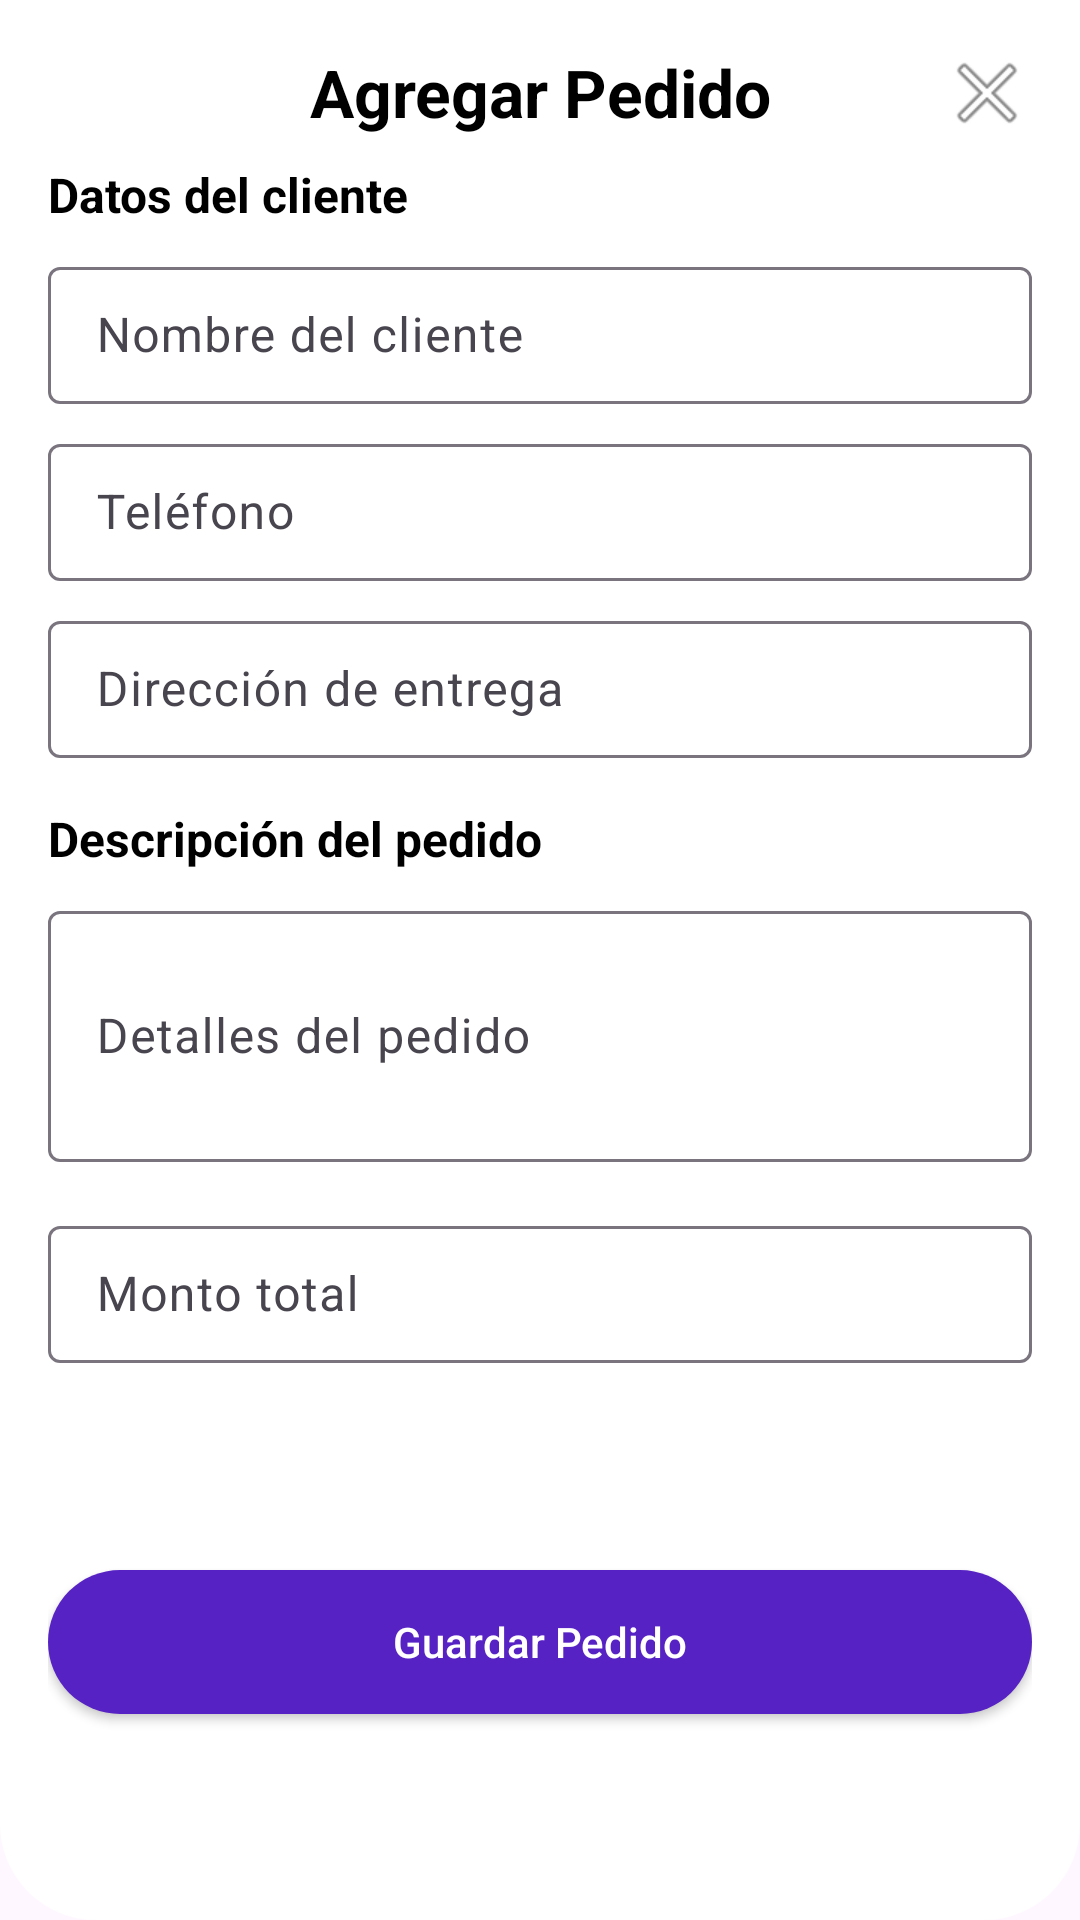

Screen size 1080px x 1920px. Icon name, then its center in pixels as [x,y]:
Cerrar: [987,93]
